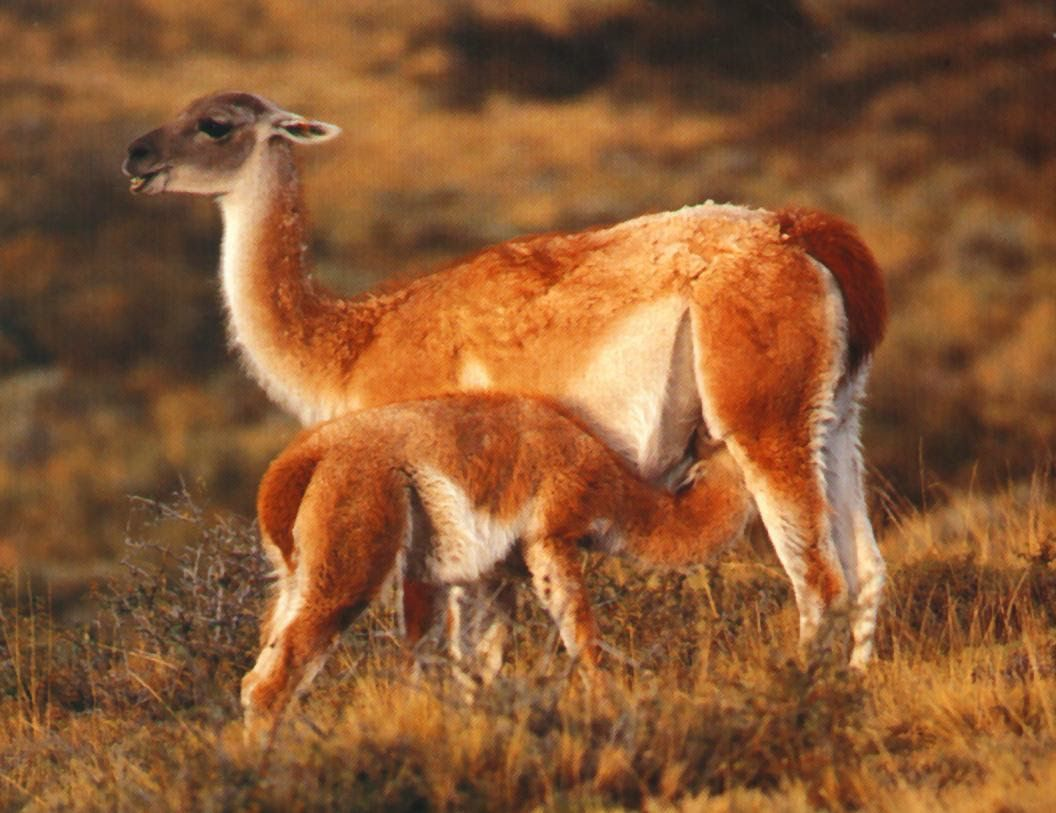eye: (197, 115, 244, 143)
mouth: (111, 163, 181, 202)
